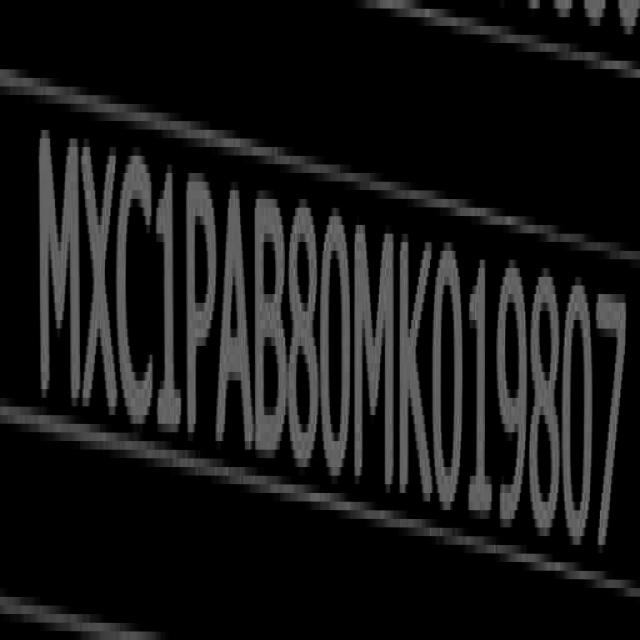0: (321, 198, 351, 493), (434, 230, 464, 518), (563, 270, 592, 560)
1: (158, 150, 183, 448), (467, 244, 489, 536)
7: (600, 279, 630, 572)
8: (530, 259, 562, 547), (292, 192, 322, 484)
9: (498, 255, 528, 538)
A: (218, 169, 254, 469)
B: (255, 180, 289, 470)
C: (118, 143, 159, 448)
K: (401, 218, 433, 514)
M: (34, 112, 78, 429), (354, 208, 397, 506)
P: (186, 170, 217, 448)
X: (82, 129, 119, 436)
